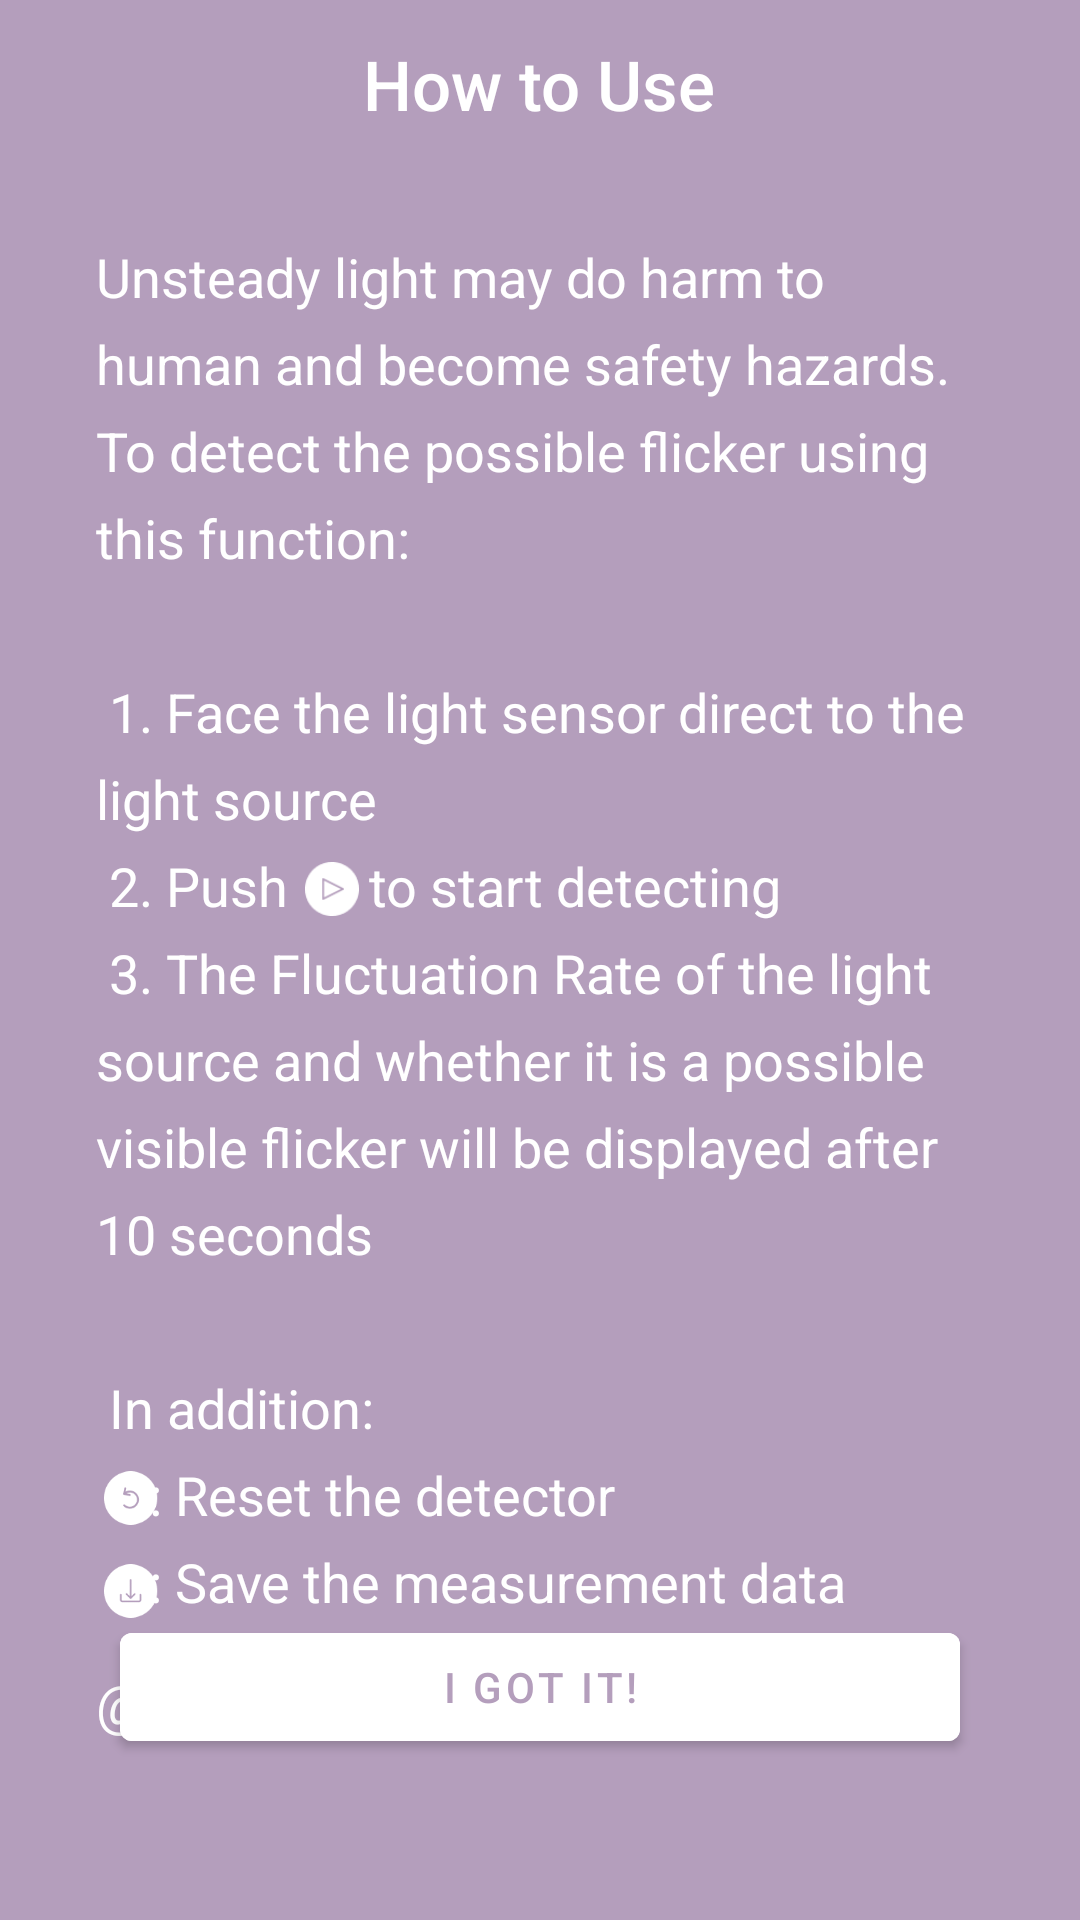

Where to tap for icons on this 1080w x 1920h app screen, as point (x, y):
flicker play: point (332, 889)
flicker reset: point (131, 1498)
flicker save: point (131, 1591)
